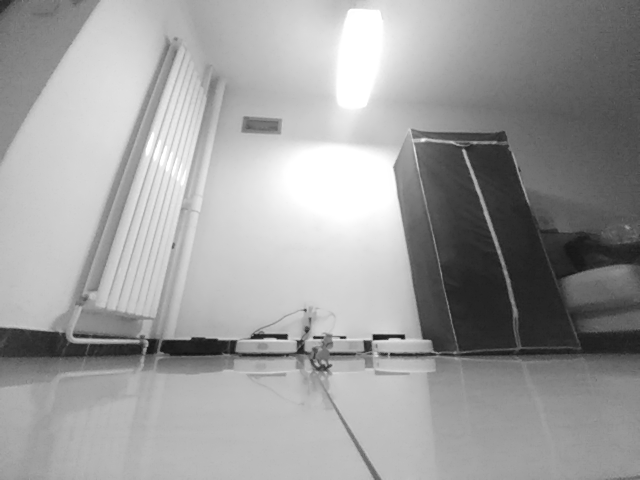toy: (309, 331, 336, 373)
